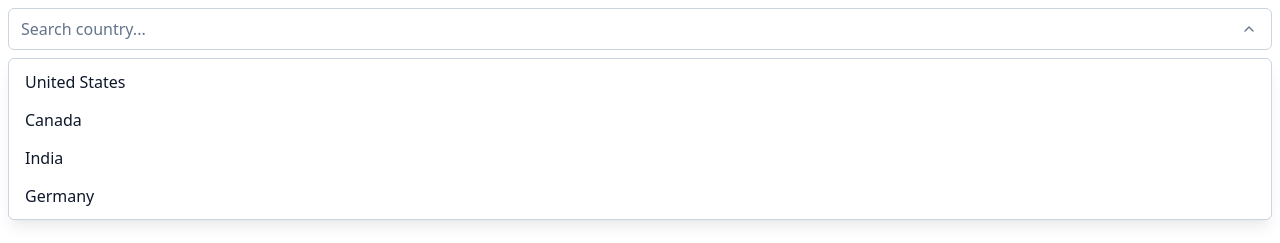
Test case: Combobox Component (SPEC-030) › selects option on click
The width and height of the screenshot is (1280, 243).
Click the option "Canada": (53, 120) [25,109,82,131]
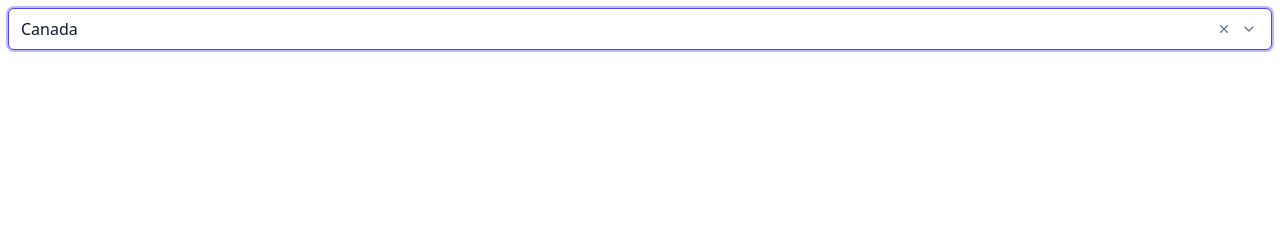
Check: the dropdown holds "Canada", box [21,13,1209,45]
Check: the dropdown is collapsed, box [21,13,1209,45]
